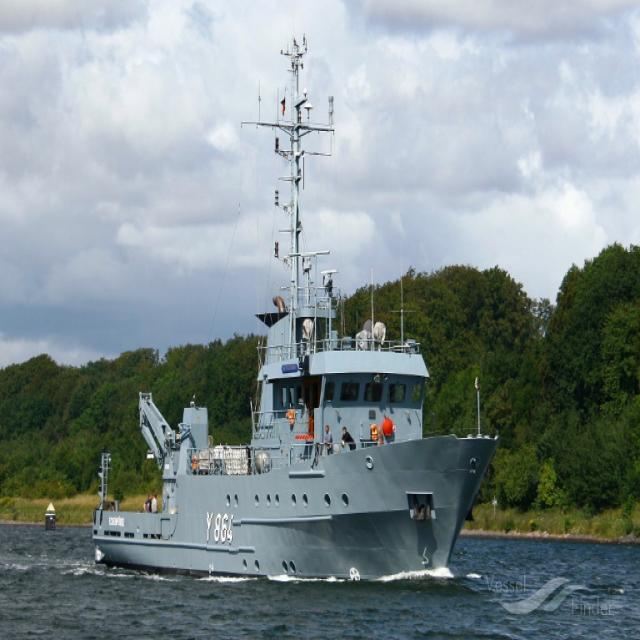OCR: (199, 500, 243, 562)
